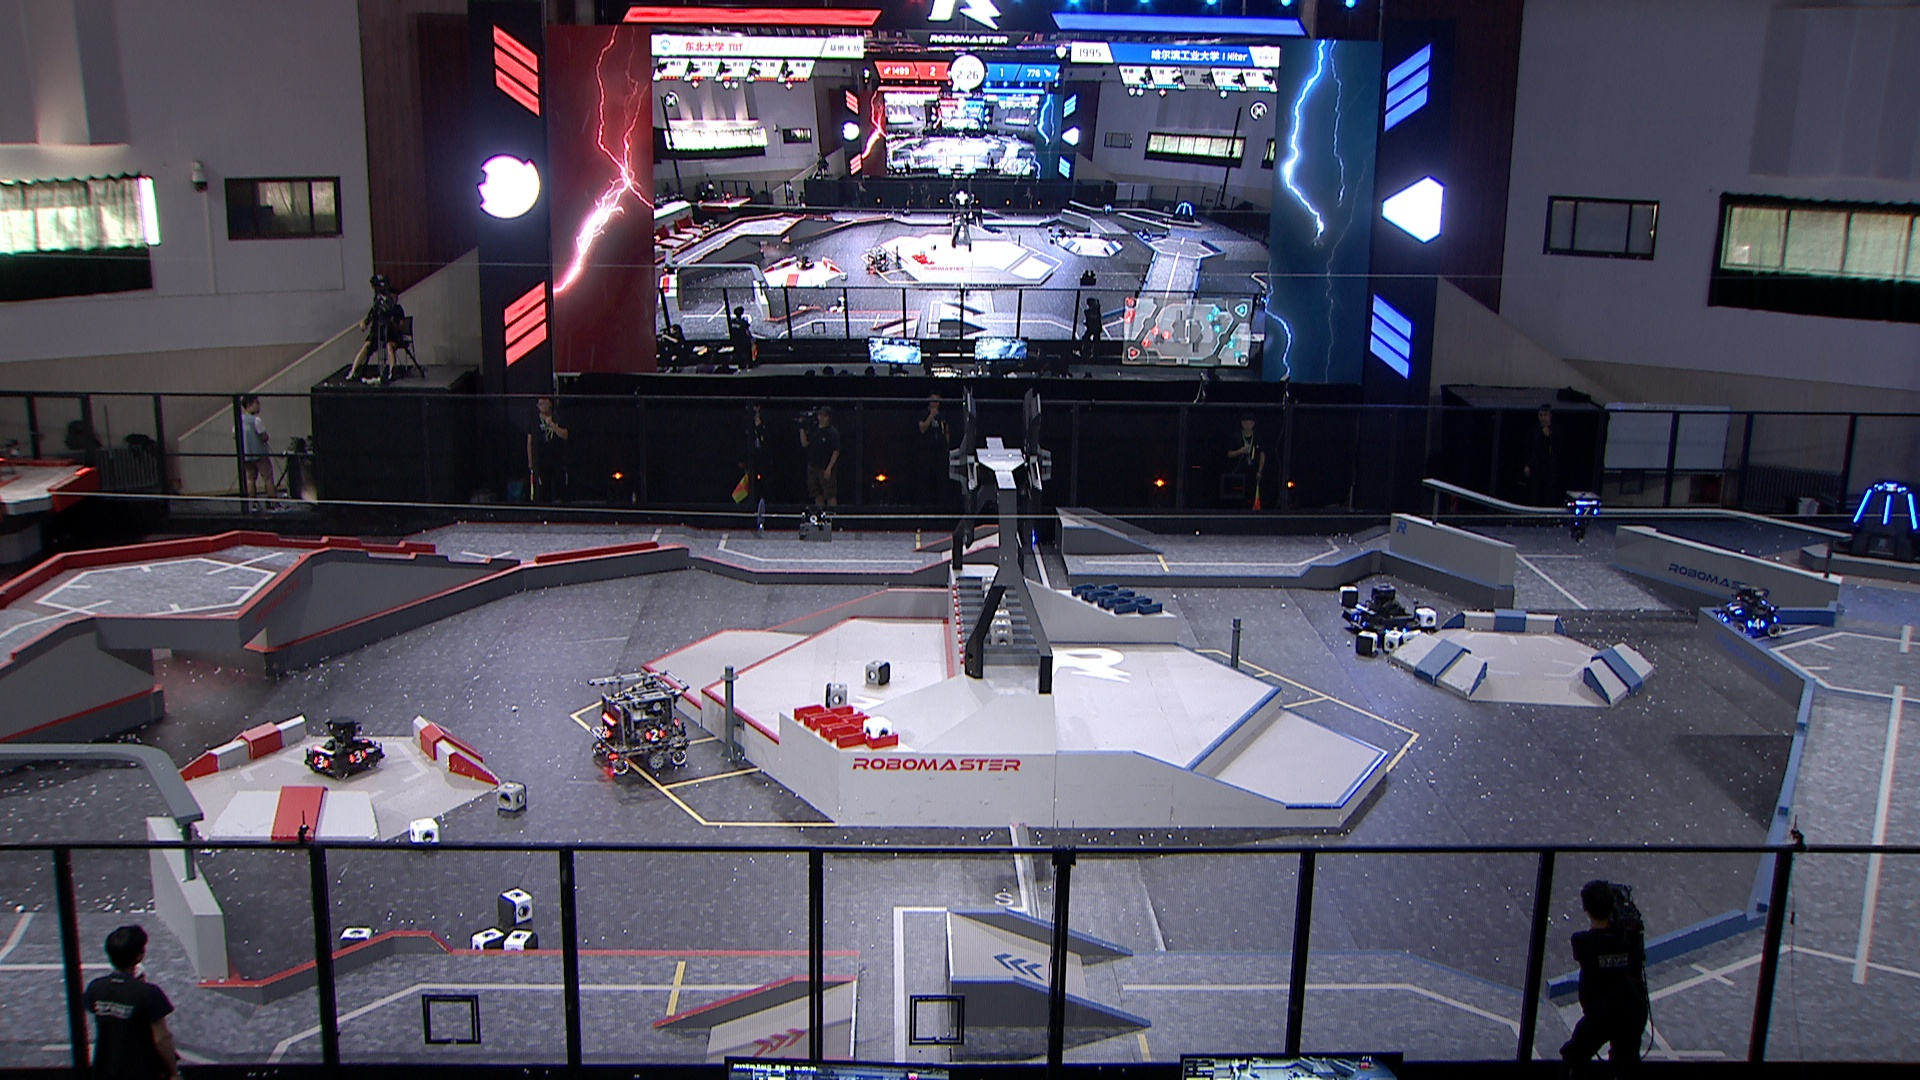armor: (1851, 488, 1874, 524), (1907, 491, 1920, 531), (1571, 505, 1600, 520), (345, 746, 368, 765), (1882, 495, 1894, 526), (644, 727, 666, 742), (1876, 483, 1905, 495), (1746, 617, 1768, 632), (597, 723, 612, 741), (311, 756, 330, 770), (1352, 613, 1367, 628), (1726, 603, 1743, 616), (1714, 612, 1727, 624)
base: (1836, 479, 1920, 564)
car: (585, 670, 690, 778), (301, 713, 386, 782), (1338, 585, 1416, 646), (1712, 585, 1783, 642)
ignore: (862, 247, 887, 273), (1168, 200, 1197, 223), (1135, 225, 1155, 243), (699, 218, 719, 233), (795, 255, 814, 270)
watcher: (1560, 491, 1604, 543)
